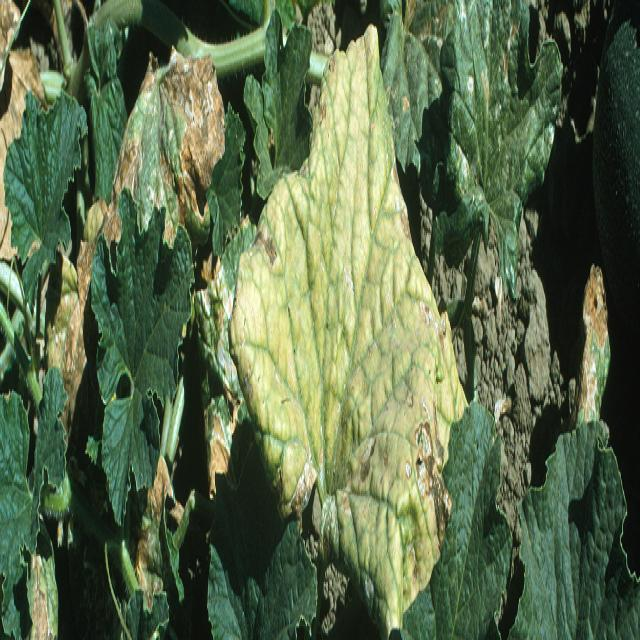Aphids: (230, 23, 473, 636), (49, 50, 230, 441), (0, 40, 44, 250), (573, 258, 614, 423), (25, 529, 59, 639)
